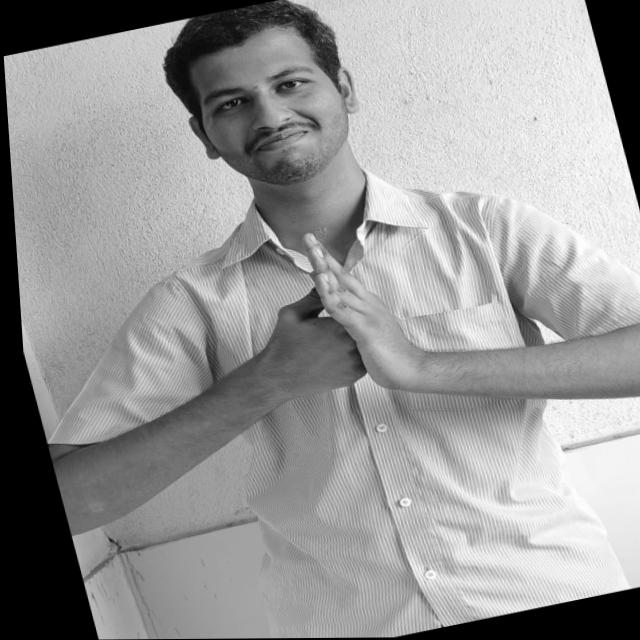Well Done: (213, 216, 438, 429)
